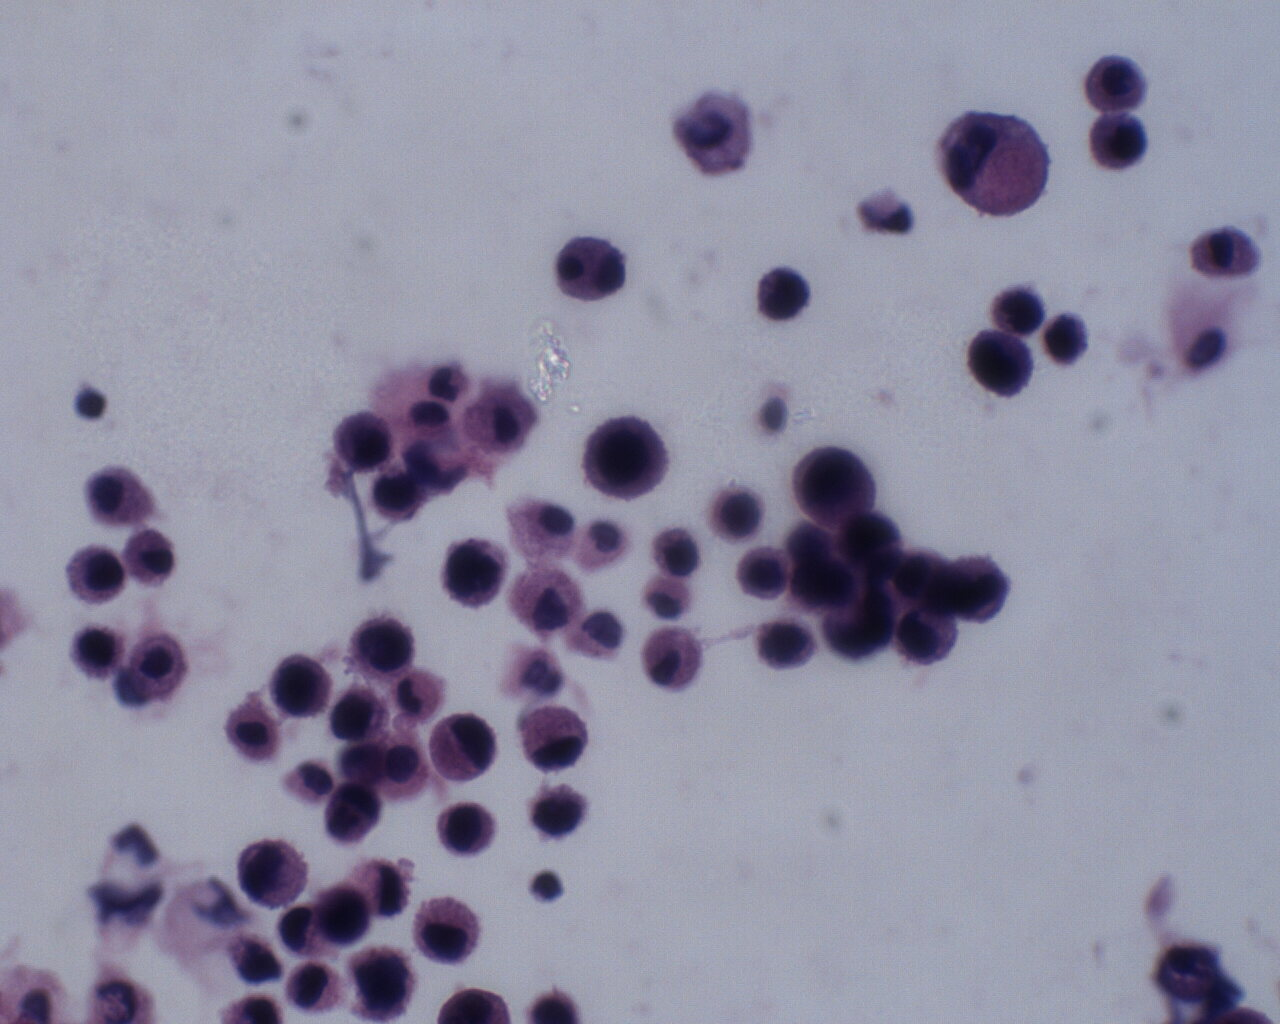ab: (581, 412, 674, 504), (792, 446, 879, 528), (234, 832, 310, 915), (439, 535, 514, 610), (346, 946, 420, 1019), (963, 328, 1037, 400), (344, 615, 419, 683), (319, 772, 385, 842), (270, 651, 334, 721), (894, 603, 959, 668), (66, 542, 127, 610), (332, 410, 394, 471), (709, 482, 771, 543), (69, 618, 130, 680), (528, 782, 591, 841), (326, 685, 393, 742), (1090, 110, 1150, 170), (758, 616, 817, 676), (752, 265, 814, 323), (990, 283, 1051, 338), (438, 801, 499, 856), (287, 958, 345, 1015), (366, 469, 424, 525)
histo: (934, 106, 1055, 216)
meso: (411, 894, 486, 968), (506, 494, 579, 566), (516, 705, 592, 772), (223, 700, 288, 765), (1080, 50, 1148, 113), (130, 630, 188, 700), (728, 542, 794, 603)
